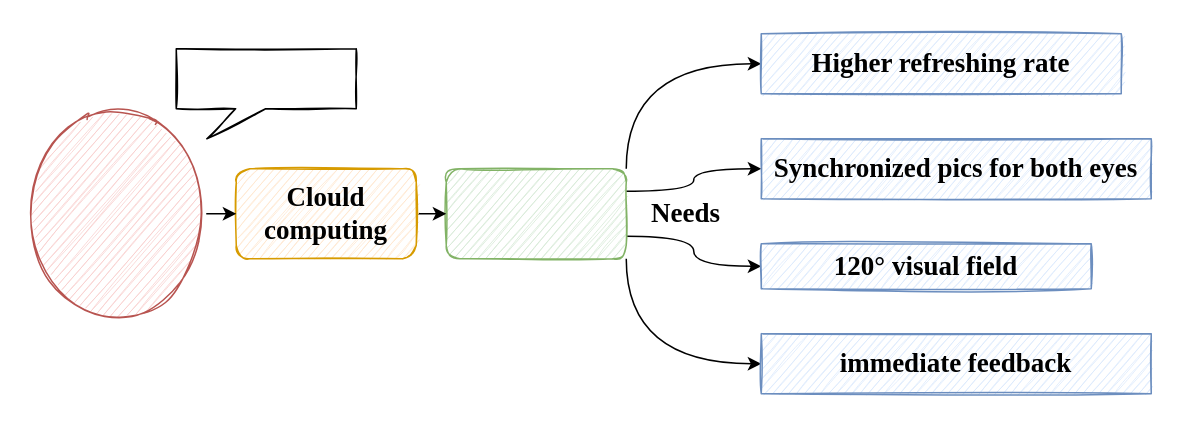
Image size: 1178x428. Some labels were removed from this diagram. The shapes that lost their labels are listed below. From the top down, each one's centre as x and y in pixels, then its label:
At (x=265, y=93): "Still a problem".
At (x=115, y=213): "The Delay".
At (x=535, y=213): "AR&VR Entertainment".
